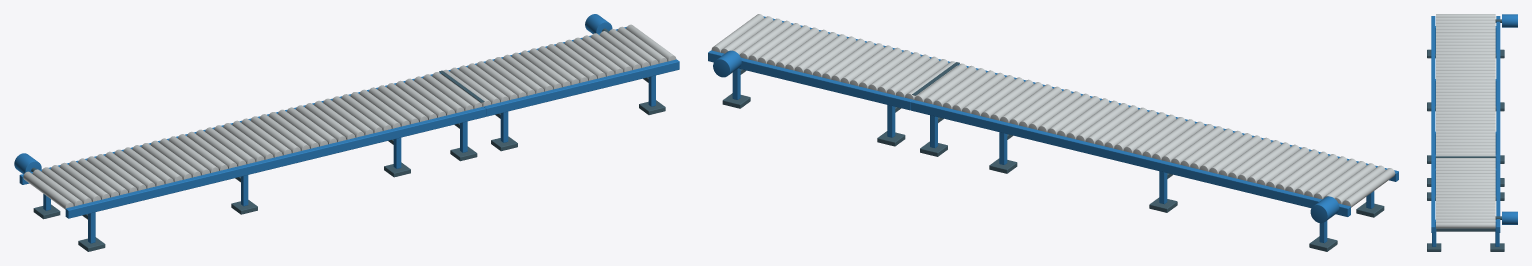
Rendered from grouping_line.glb.
3 views of the same model, side by side, from view 1: azimuth 30°, elevation 25°; view 2: azimuth 150°, elevation 25°; view 3: azimuth 270°, elevation 25° (orthographic). The views are drawn at different scales.
Visible parts, largest first — view 1: INFEED_rail_-1, RECEIVER_rail_-1, KIN_group_roller_INFEED_0, KIN_group_roller_INFEED_14, KIN_group_roller_INFEED_25, KIN_group_roller_INFEED_9, KIN_group_roller_INFEED_10, KIN_group_roller_INFEED_16, KIN_group_roller_INFEED_23, KIN_group_roller_INFEED_34, KIN_group_roller_INFEED_39, KIN_group_roller_INFEED_1 (+59 smaller); view 2: INFEED_rail_1, RECEIVER_rail_1, KIN_group_roller_INFEED_0, INFEED_motor, RECEIVER_motor, KIN_group_roller_INFEED_14, KIN_group_roller_INFEED_27, KIN_group_roller_INFEED_15, KIN_group_roller_INFEED_21, KIN_group_roller_INFEED_23, KIN_group_roller_INFEED_32, KIN_group_roller_INFEED_36 (+59 smaller); view 3: INFEED_rail_-1, INFEED_rail_1, KIN_group_roller_RECEIVER_21, RECEIVER_rail_-1, RECEIVER_rail_1, KIN_group_roller_INFEED_1, KIN_group_roller_INFEED_2, KIN_group_roller_INFEED_3, KIN_group_roller_INFEED_4, KIN_group_roller_INFEED_5, KIN_group_roller_INFEED_6, KIN_group_roller_INFEED_8 (+68 smaller).
Boxes of the visible parts, x1,y1,x2,y2 form: INFEED_rail_-1: (65,106,485,218); RECEIVER_rail_-1: (484,59,679,116); KIN_group_roller_INFEED_0: (23,171,73,209); KIN_group_roller_INFEED_14: (150,140,200,177); KIN_group_roller_INFEED_25: (250,116,300,153); KIN_group_roller_INFEED_9: (105,151,155,188); KIN_group_roller_INFEED_10: (114,149,164,186); KIN_group_roller_INFEED_16: (168,136,218,173); KIN_group_roller_INFEED_23: (232,120,282,157); KIN_group_roller_INFEED_34: (332,96,382,133); KIN_group_roller_INFEED_39: (377,85,427,122); KIN_group_roller_INFEED_1: (32,169,82,206); INFEED_rail_1: (910,100,1350,216); RECEIVER_rail_1: (708,50,912,110); KIN_group_roller_INFEED_0: (1342,168,1395,207); INFEED_motor: (1310,196,1339,223); RECEIVER_motor: (713,50,741,77); KIN_group_roller_INFEED_14: (1209,135,1261,174); KIN_group_roller_INFEED_27: (1085,105,1138,143); KIN_group_roller_INFEED_15: (1199,133,1252,171); KIN_group_roller_INFEED_21: (1142,119,1195,157); KIN_group_roller_INFEED_23: (1123,114,1176,153); KIN_group_roller_INFEED_32: (1038,93,1090,132); KIN_group_roller_INFEED_36: (1000,84,1052,122); INFEED_rail_-1: (1431,16,1435,160); INFEED_rail_1: (1496,16,1500,160); KIN_group_roller_RECEIVER_21: (1436,222,1495,228); RECEIVER_rail_-1: (1431,160,1435,232); RECEIVER_rail_1: (1496,160,1500,232); KIN_group_roller_INFEED_1: (1436,17,1495,20); KIN_group_roller_INFEED_2: (1436,20,1495,23); KIN_group_roller_INFEED_3: (1436,23,1495,26); KIN_group_roller_INFEED_4: (1436,26,1495,29); KIN_group_roller_INFEED_5: (1436,29,1495,32); KIN_group_roller_INFEED_6: (1436,32,1495,35); KIN_group_roller_INFEED_8: (1436,39,1495,42).
Bounding box in the file's own units: 12 × 0.98 × 2.18.
